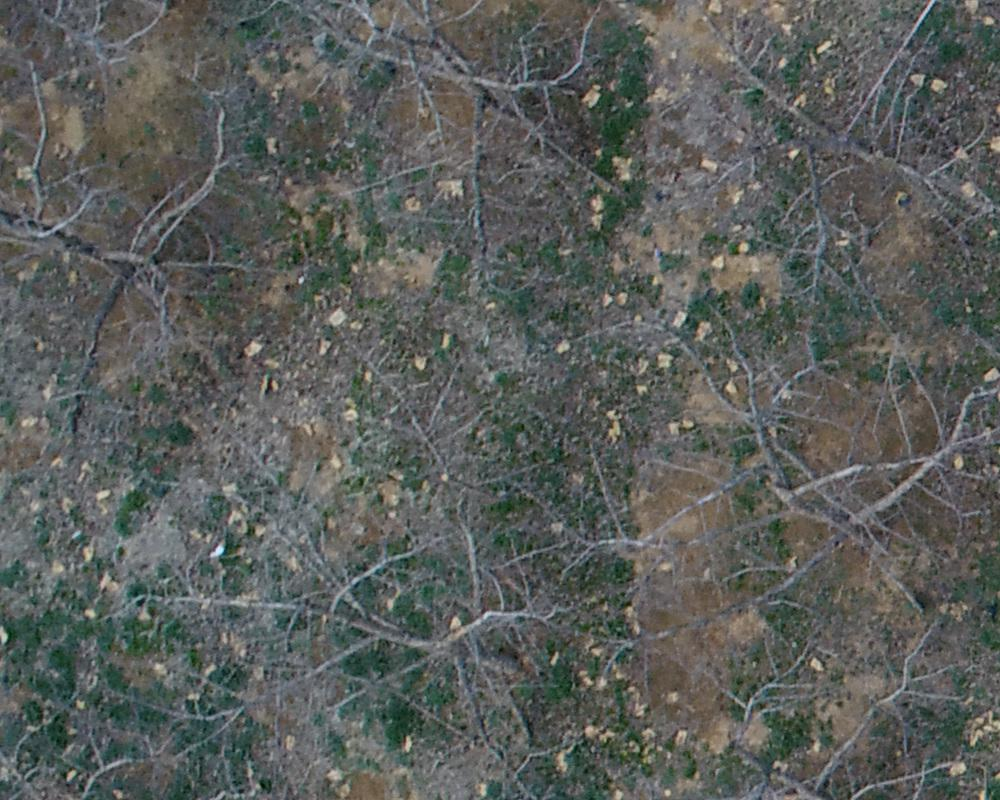apple: (599, 335, 986, 634), (188, 529, 585, 770), (203, 10, 605, 242), (672, 10, 990, 300), (10, 70, 236, 438), (589, 645, 964, 790)
